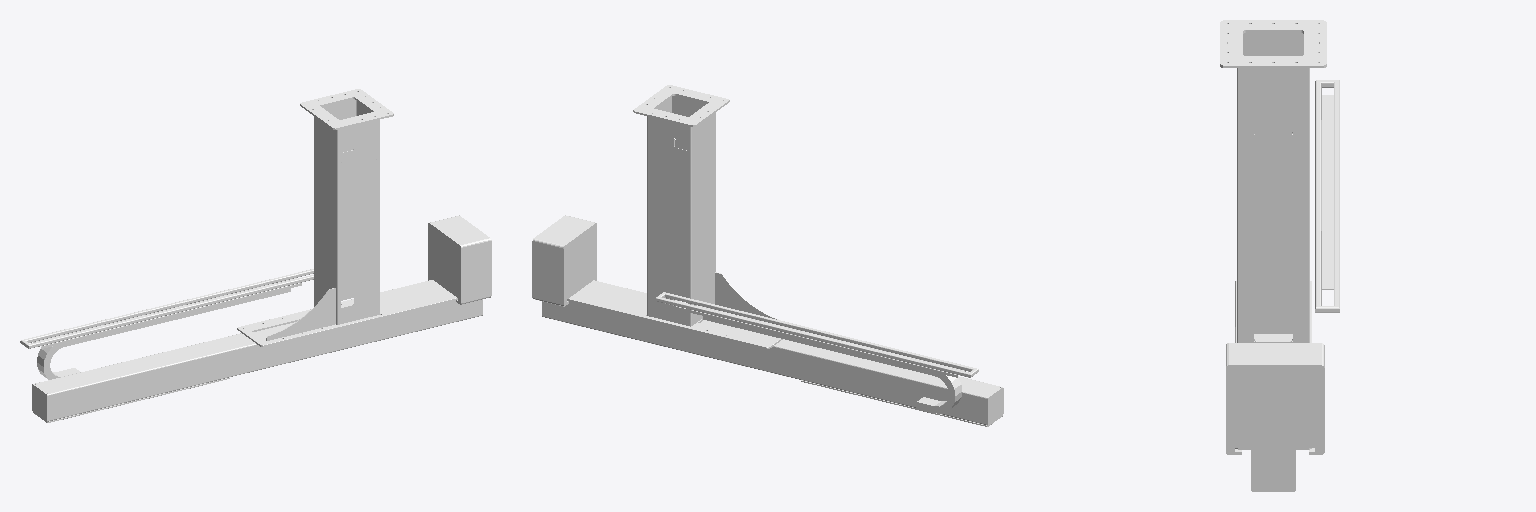
The robot description file, URDF, robot "天工焊接机器人":
<?xml version="1.0" encoding="utf-8"?>
<!-- This URDF was automatically created by SolidWorks to URDF Exporter! Originally created by Stephen Brawner (brawner@gmail.com) 
     Commit Version: 1.6.0-4-g7f85cfe  Build Version: 1.6.7995.38578
     For more information, please see http://wiki.ros.org/sw_urdf_exporter -->
<robot
  name="天工焊接机器人">
  <link
    name="base_link">
    <inertial>
      <origin
        xyz="0 0 0"
        rpy="0 0 0" />
    </inertial>
    <visual>
      <origin
        xyz="0 0 0"
        rpy="0 0 0" />
      <geometry>
        <mesh
          filename="meshes/base_link.STL" />
      </geometry>
      <material
        name="">
        <color rgba="1 1 1 1" />
      </material>
    </visual>
    <collision>
      <origin
        xyz="0 0 0"
        rpy="0 0 0" />
      <geometry>
        <mesh
          filename="meshes/base_link.STL" />
      </geometry>
    </collision>
  </link>
  <link
    name="Link1">
    <inertial>
      <origin
        xyz="-0.335055778522515 -0.00124039230005302 1.95618269187488"
        rpy="0 0 0" />
    </inertial>
    <visual>
      <origin
        xyz="0 0 0"
        rpy="0 0 0" />
      <geometry>
        <mesh
          filename="meshes/Link1.STL" />
      </geometry>
      <material
        name="">
        <color rgba="1 1 1 1" />      </material>
    </visual>
    <collision>
      <origin
        xyz="0 0 0"
        rpy="0 0 0" />
      <geometry>
        <mesh
          filename="meshes/Link1.STL" />
      </geometry>
    </collision>
  </link>
  <joint
    name="joint1"
    type="prismatic">
    <origin
      xyz="-0.5 0.001 0.02"
      rpy="0 0 1.5708" />
    <parent
      link="base_link" />
    <child
      link="Link1" />
    <axis
      xyz="0 1 0" />
    <limit
      lower="0"
      upper="14"
      effort="0"
      velocity="0" />
  </joint>
</robot>

--- Facts derived from the render (not from the file) ---
3 views of the same robot in one strip: view 1: azimuth 30°, elevation 25°; view 2: azimuth 150°, elevation 25°; view 3: azimuth 270°, elevation 25° (orthographic).
Robot: 天工焊接机器人 — 2 links, 1 joints (1 prismatic); root link base_link; default pose: all joints at 0.
Links seen in each view (by area): view 1: Link1; view 2: Link1; view 3: Link1.
Boxes of the visible links, box(x1,y1,x2,y2) form: Link1: box(20, 89, 491, 422); Link1: box(532, 85, 1003, 426); Link1: box(1220, 20, 1339, 491).
Size in the robot's own frame: 5.01 by 0.785 by 2.57 metres.
1 mesh visuals loaded from 2 distinct referenced files (1 binary STL); not drawn: 1 (reference not matched to a file when rendering).
